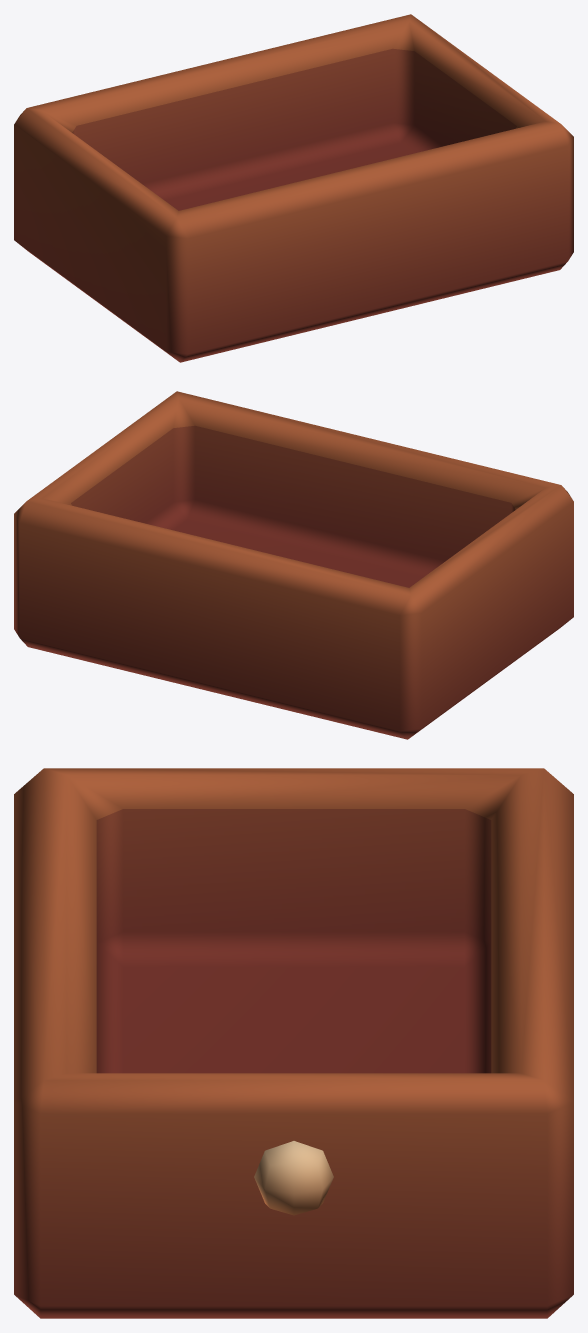
The model's file is Drawer2.fbx.
3 renders of one model, top to bottom at view 1: azimuth 30°, elevation 25°; view 2: azimuth 150°, elevation 25°; view 3: azimuth 270°, elevation 25°, orthographic. The views are drawn at different scales.
Visible parts, largest first — view 1: Drawer2; view 2: Drawer2; view 3: Drawer2.
Boxes of the visible parts, x1=… form: Drawer2: x1=14, y1=14, x2=573, y2=362; Drawer2: x1=14, y1=391, x2=573, y2=739; Drawer2: x1=14, y1=768, x2=573, y2=1318.
Bounding box in the file's own units: 95.57 × 30.79 × 65.03.
